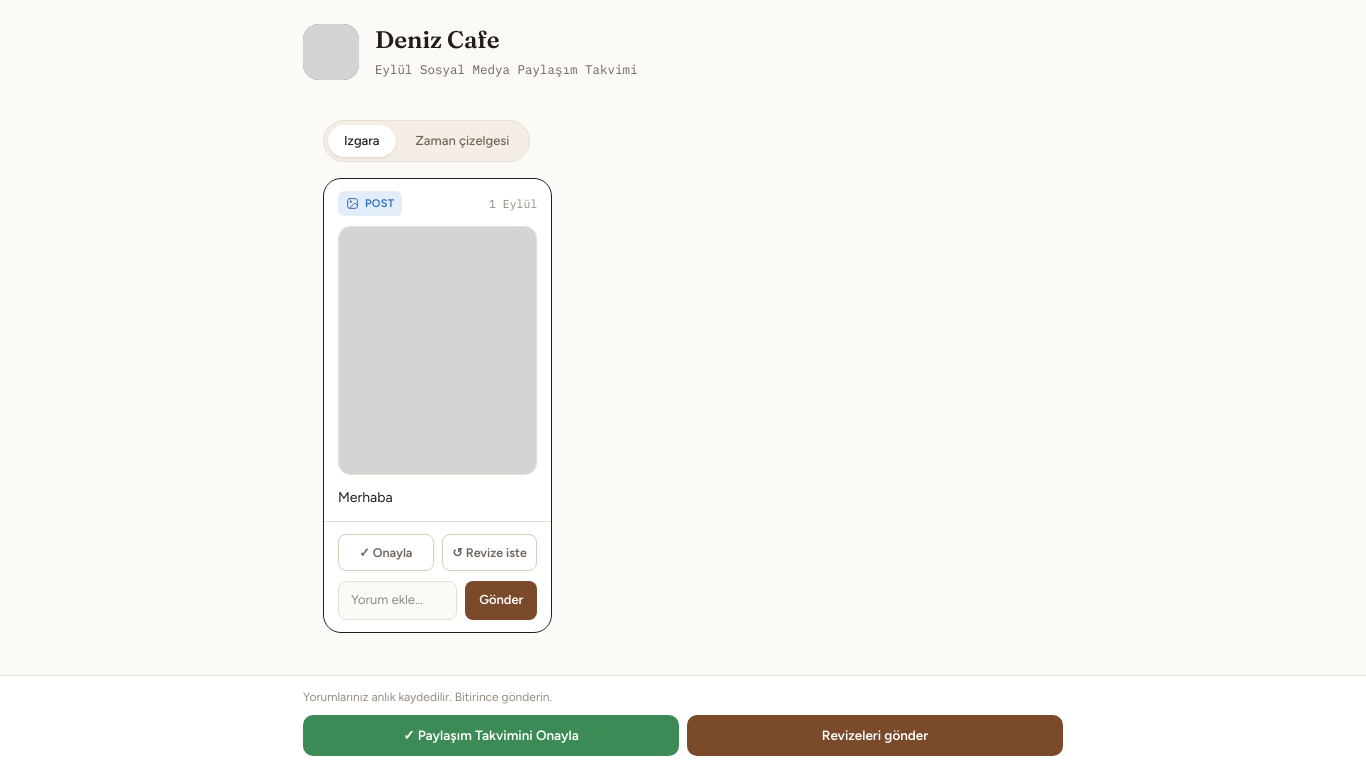
BrandViewClient — approve vs. send-revisions are separate actions › approve posts round: onay, regardless of per-item status
This screenshot has width=1366, height=768.
Click the button "✓ Paylaşım Takvimini Onayla" at (491, 736), box [303, 715, 679, 756]
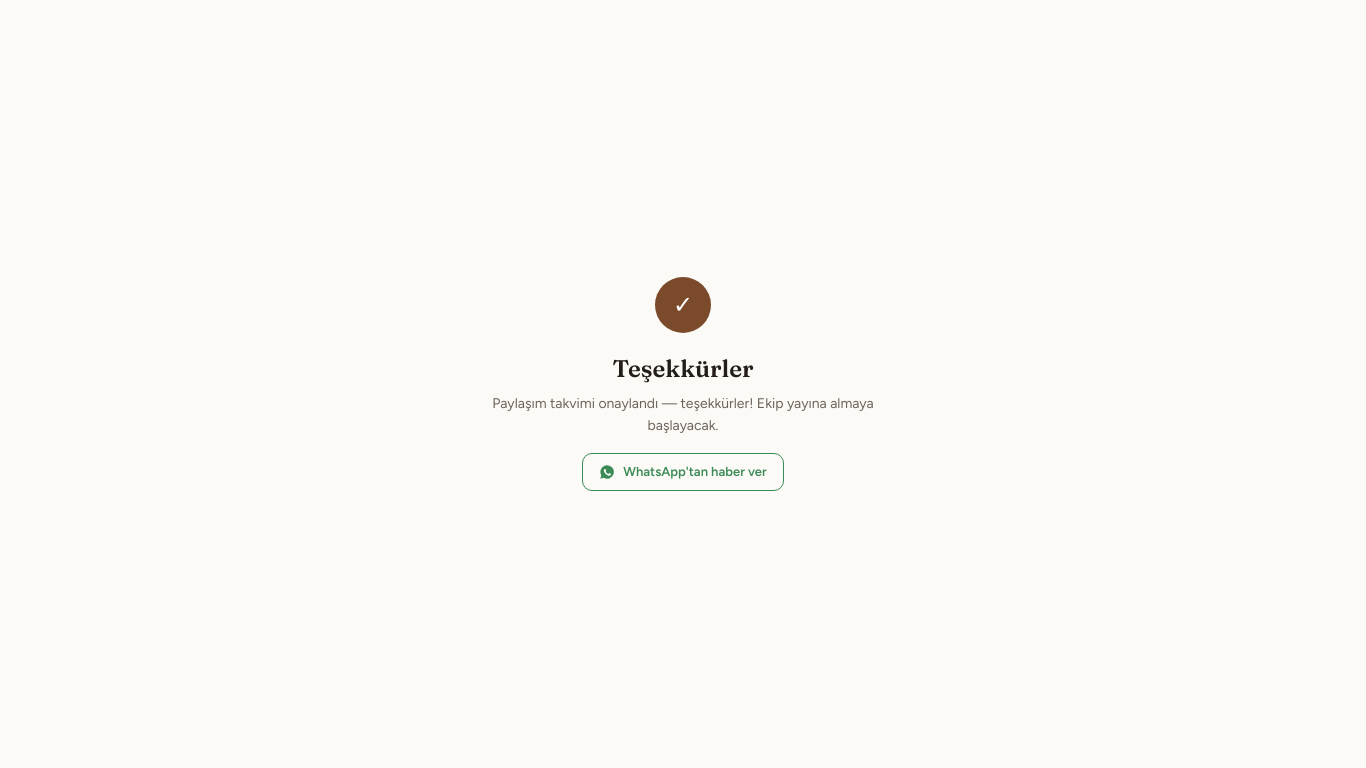
Expected: the text "onaylandı" is shown, [492, 395, 874, 434]
